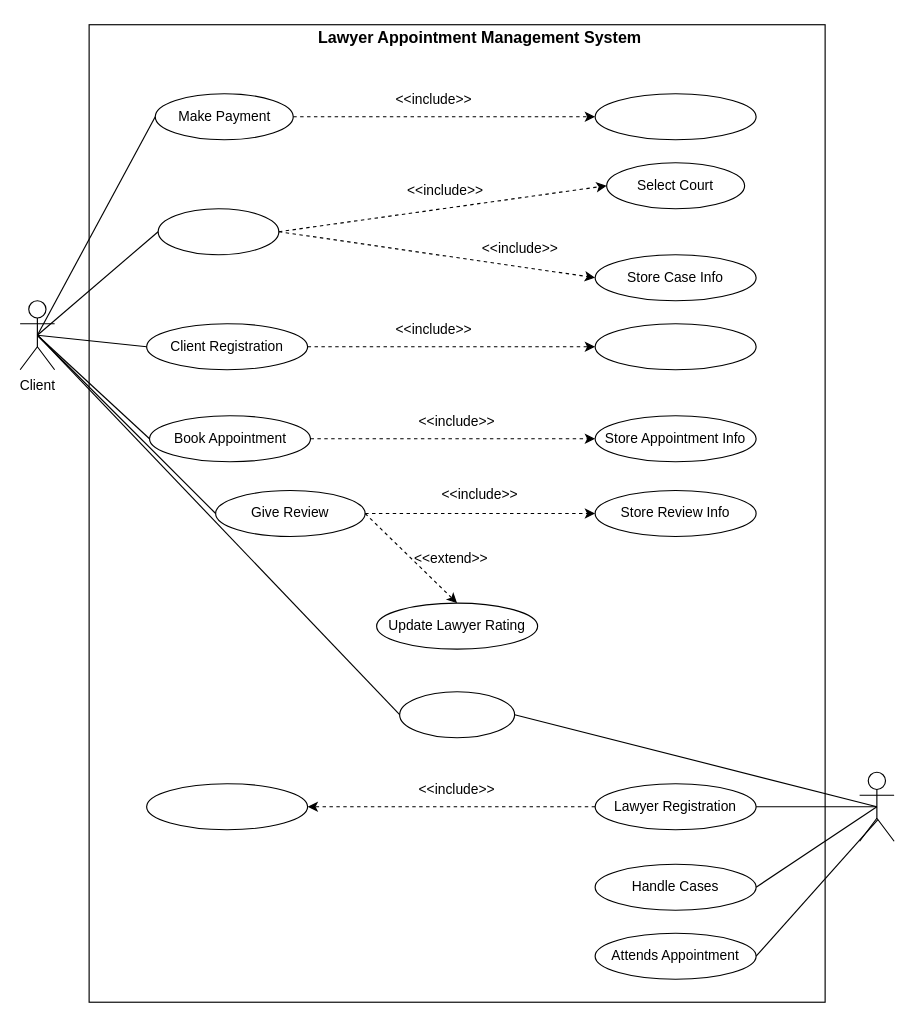
Image size: 919x1022. Some labels were removed from this diagram. Each missing label, with the box of its shape:
Lawyer: (858, 771, 894, 841)
Login: (398, 691, 515, 738)
Manage Case: (157, 208, 279, 255)
Store Client Info: (594, 323, 756, 370)
Store Lawyer Info: (145, 783, 308, 830)
Store Payment Info: (594, 93, 756, 140)
